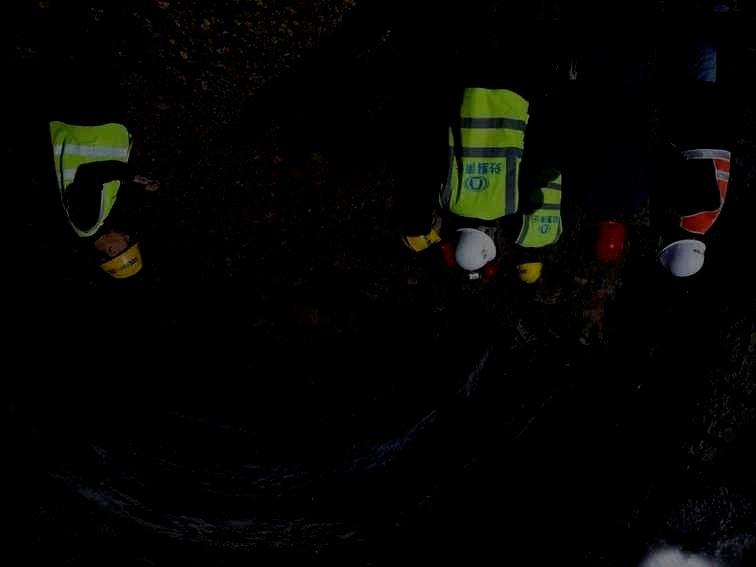helmet: (657, 225, 706, 277), (92, 230, 143, 279), (453, 222, 497, 270), (590, 221, 625, 264), (515, 250, 542, 284)
